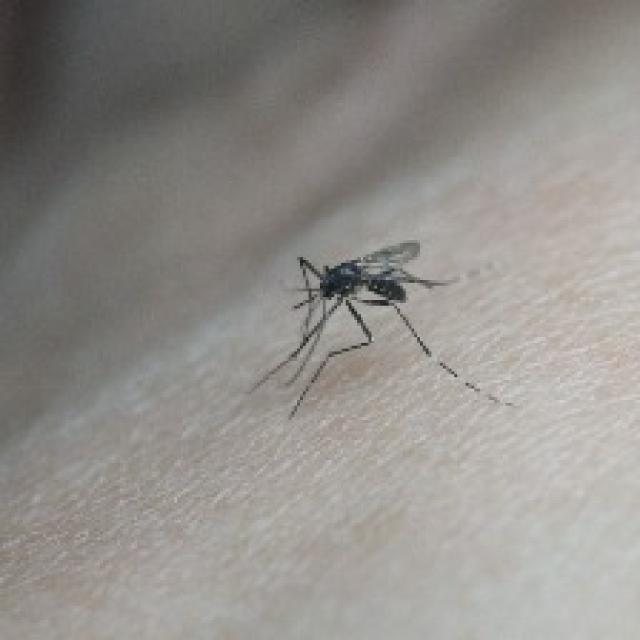aedes: (246, 234, 511, 420)
